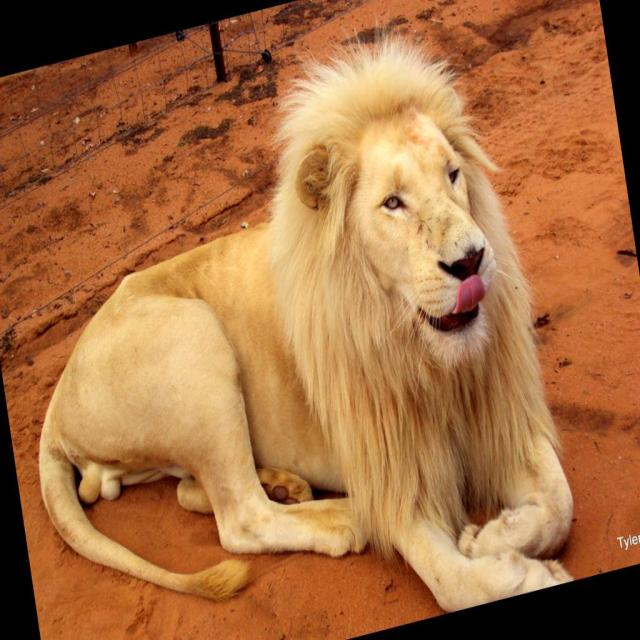Lion: (0, 0, 584, 639)
